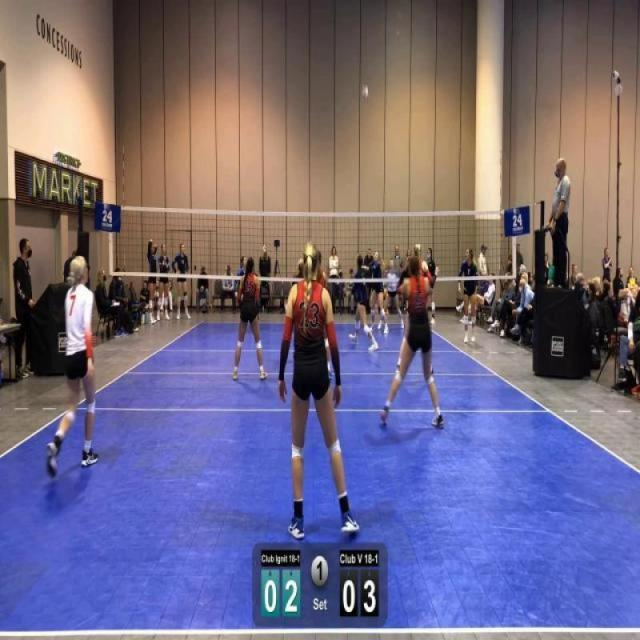volleyball: (360, 83, 370, 102)
